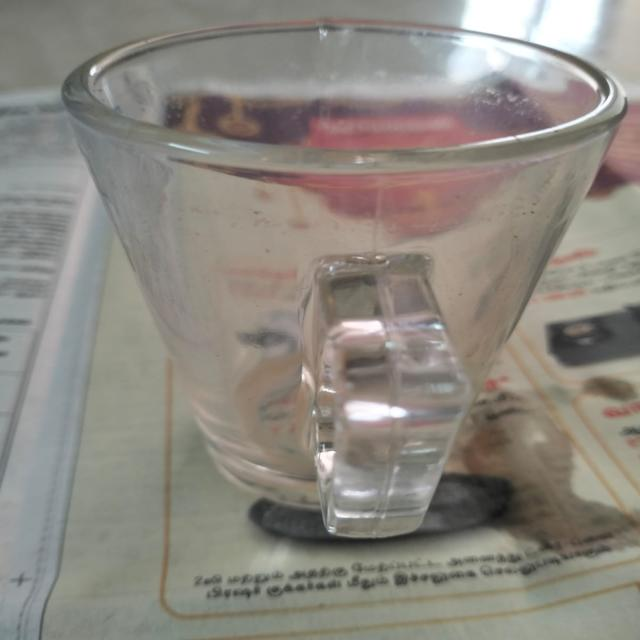glass-VX4N: (59, 12, 625, 539)
